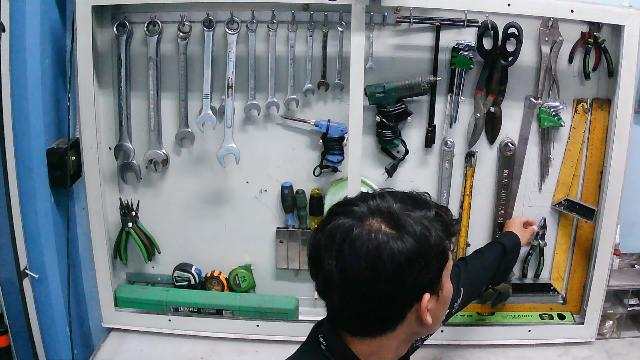tang_kombinasi: (520, 213, 549, 282)
